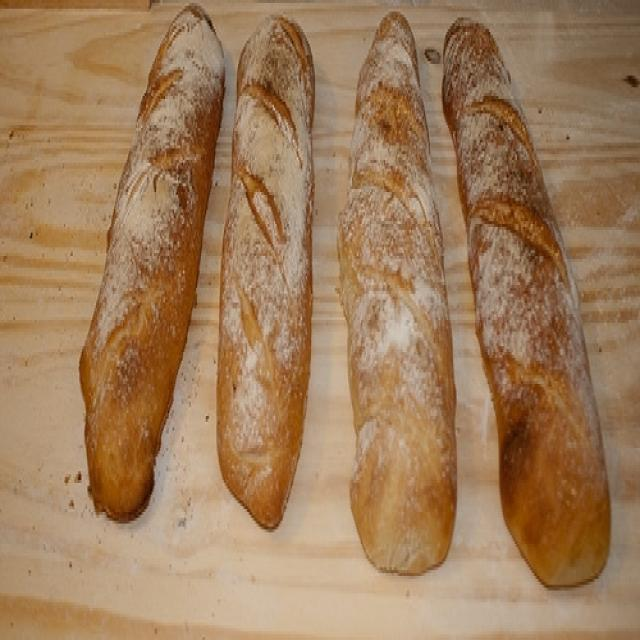Bread: (440, 10, 616, 594), (78, 0, 228, 524), (338, 8, 459, 582), (220, 3, 323, 529)
